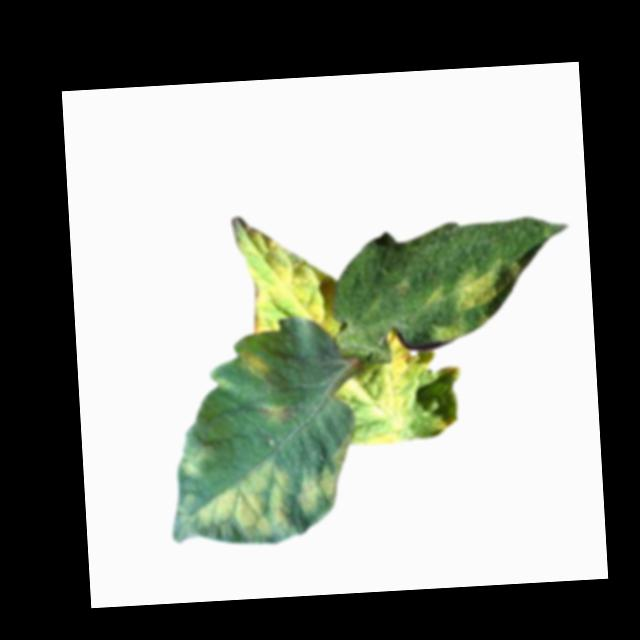Leaf_Mold: (176, 456, 338, 543), (232, 210, 344, 335), (330, 325, 427, 432), (452, 253, 523, 311), (180, 432, 216, 479), (428, 315, 473, 344), (241, 345, 274, 379), (260, 398, 298, 426), (366, 430, 402, 446)
